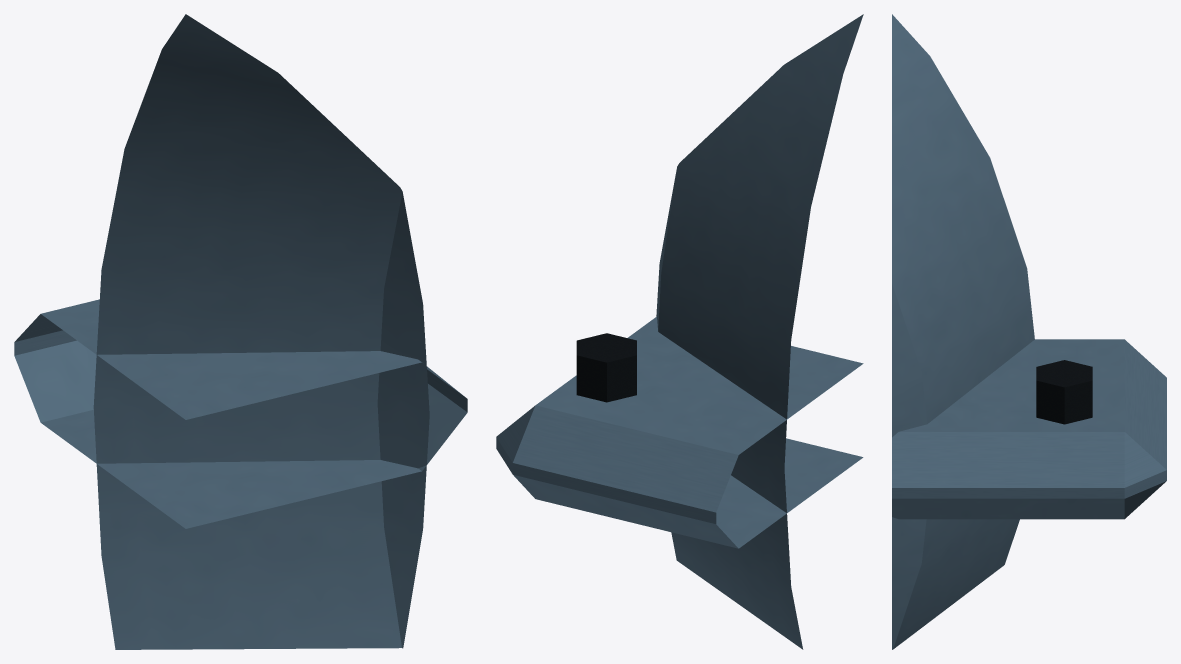
The model's file is cell_27.obj.
3 renders of one model, left to right at view 1: azimuth 30°, elevation 25°; view 2: azimuth 150°, elevation 25°; view 3: azimuth 270°, elevation 25°, orthographic. The views are drawn at different scales.
Visible parts, largest first — view 1: cell_27; view 2: cell_27; view 3: cell_27.
Boxes of the visible parts, x1,y1,x2,y2 form: cell_27: (14, 14, 467, 649); cell_27: (496, 14, 863, 649); cell_27: (892, 14, 1166, 649).
Bounding box in the file's own units: 0.26 × 0.6059 × 0.274.
